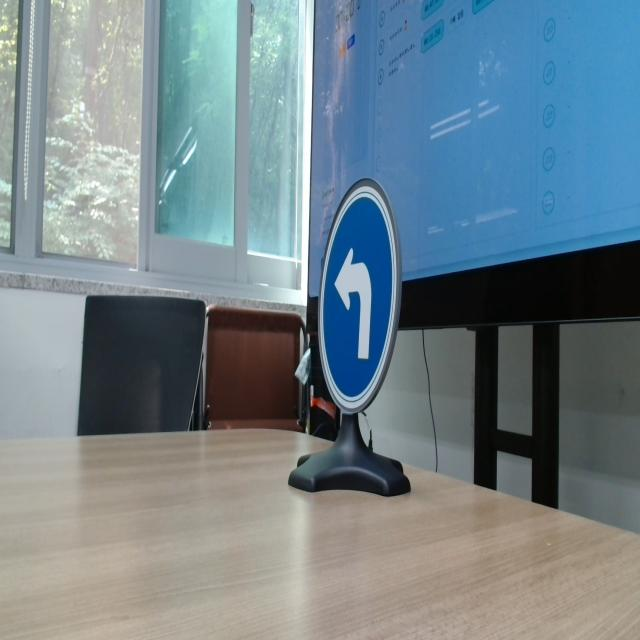left_direction: (321, 173, 407, 404)
